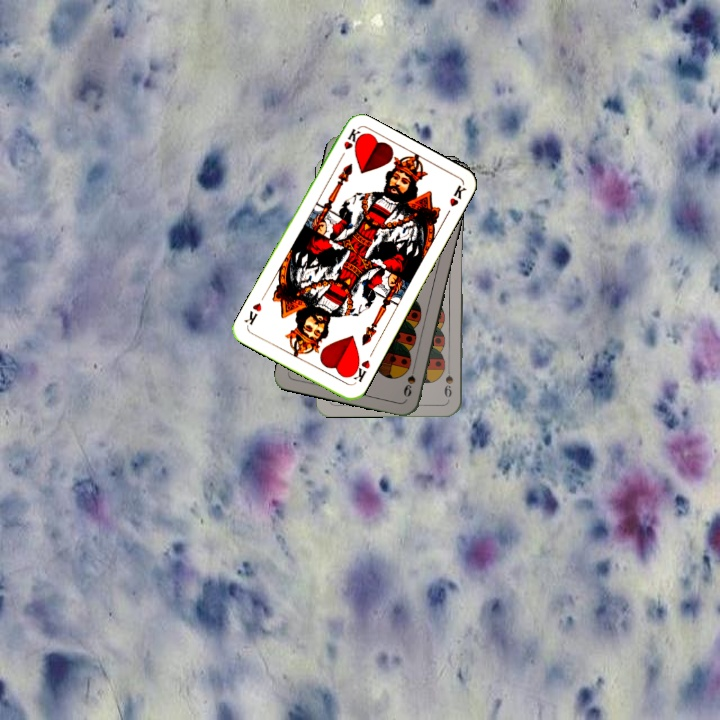HK: (335, 125, 363, 163), (346, 356, 373, 387)
S9: (399, 361, 418, 399), (440, 360, 456, 400)
